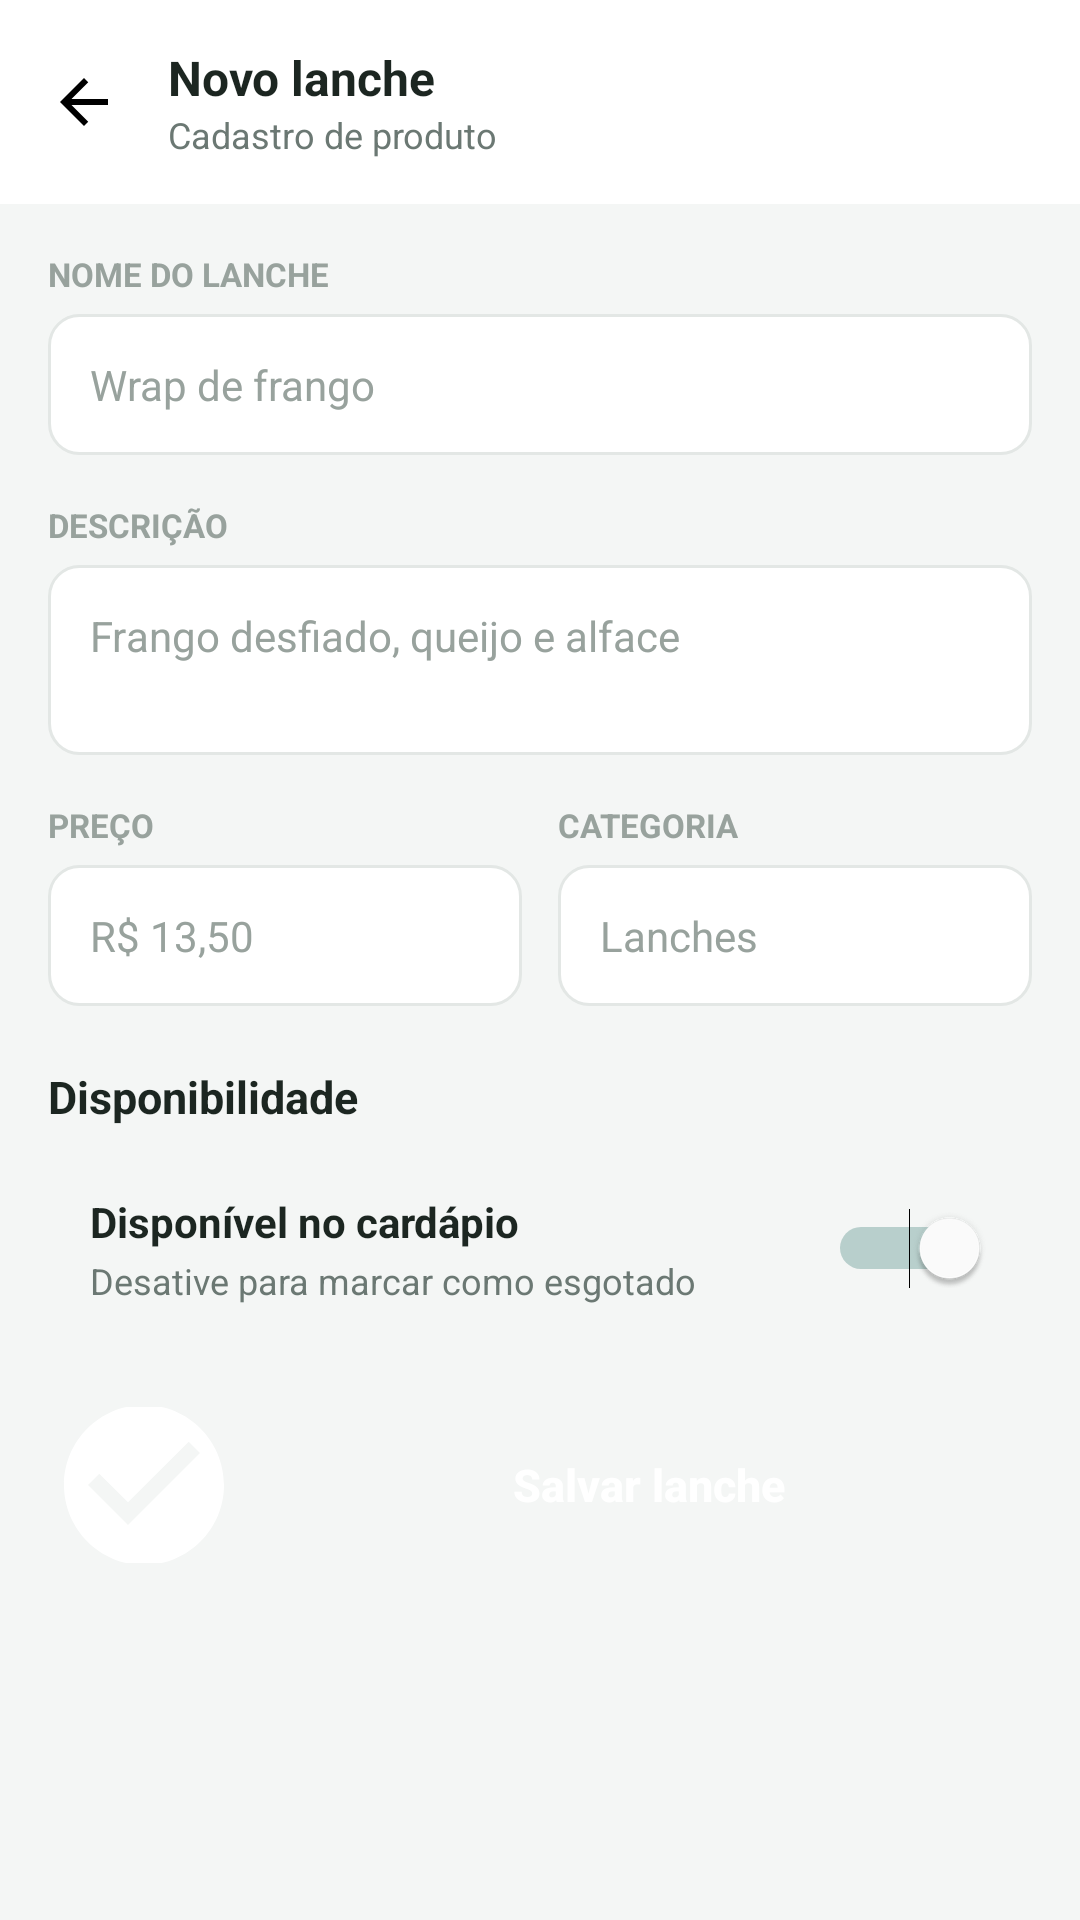

Where to tap for icons on this 1080 x 1920 app screen, as (x=x, y=y):
Voltar: (x=84, y=102)
